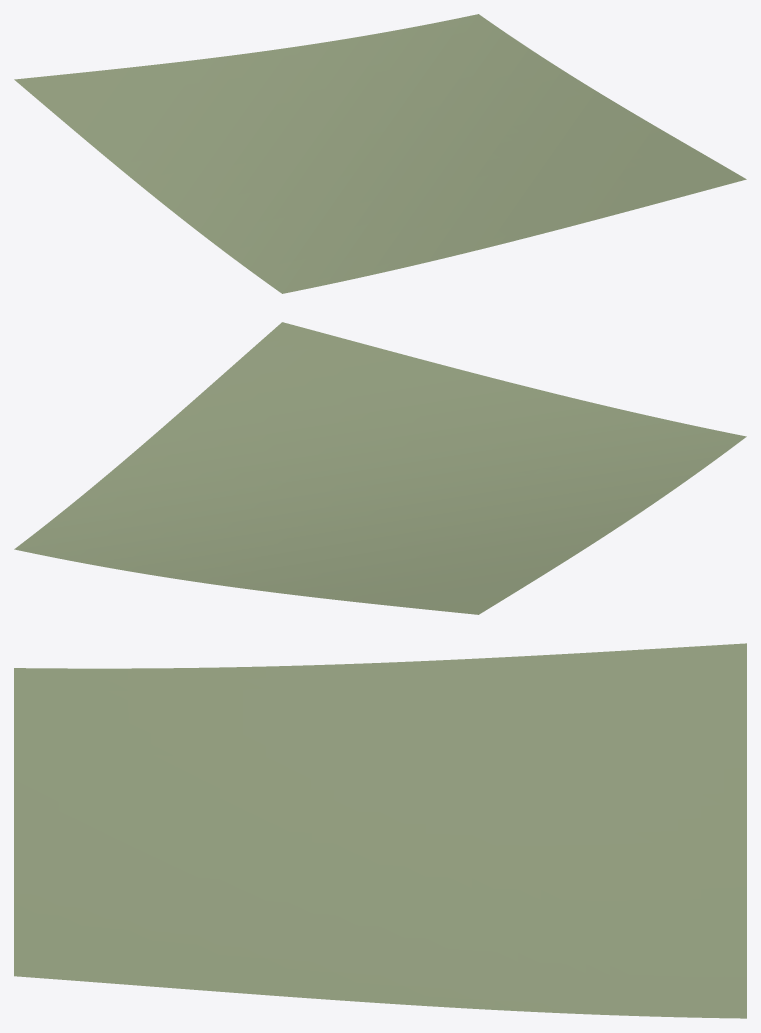
Rendered from alpine-0-5.glb.
The picture shows the model from 3 angles, top to bottom: view 1: azimuth 30°, elevation 25°; view 2: azimuth 150°, elevation 25°; view 3: azimuth 270°, elevation 25°; orthographic projection. The views are drawn at different scales.
Parts seen in each view (by area): view 1: alpine-0-5; view 2: alpine-0-5; view 3: alpine-0-5.
Part boxes in pixels (left/top/right/bottom): alpine-0-5: left=14, top=14, right=746, bottom=293; alpine-0-5: left=14, top=322, right=746, bottom=614; alpine-0-5: left=14, top=643, right=746, bottom=1018.
Size of the model in its own units: 256 by 25.21 by 256.
